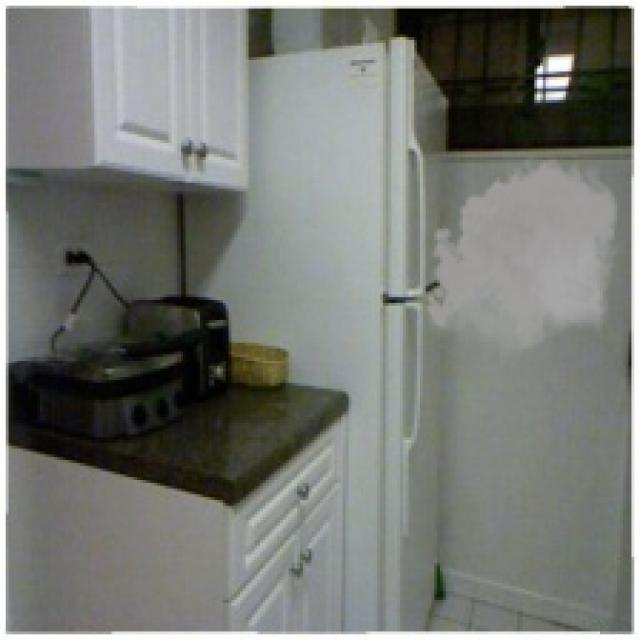smoke: (420, 151, 626, 363)
